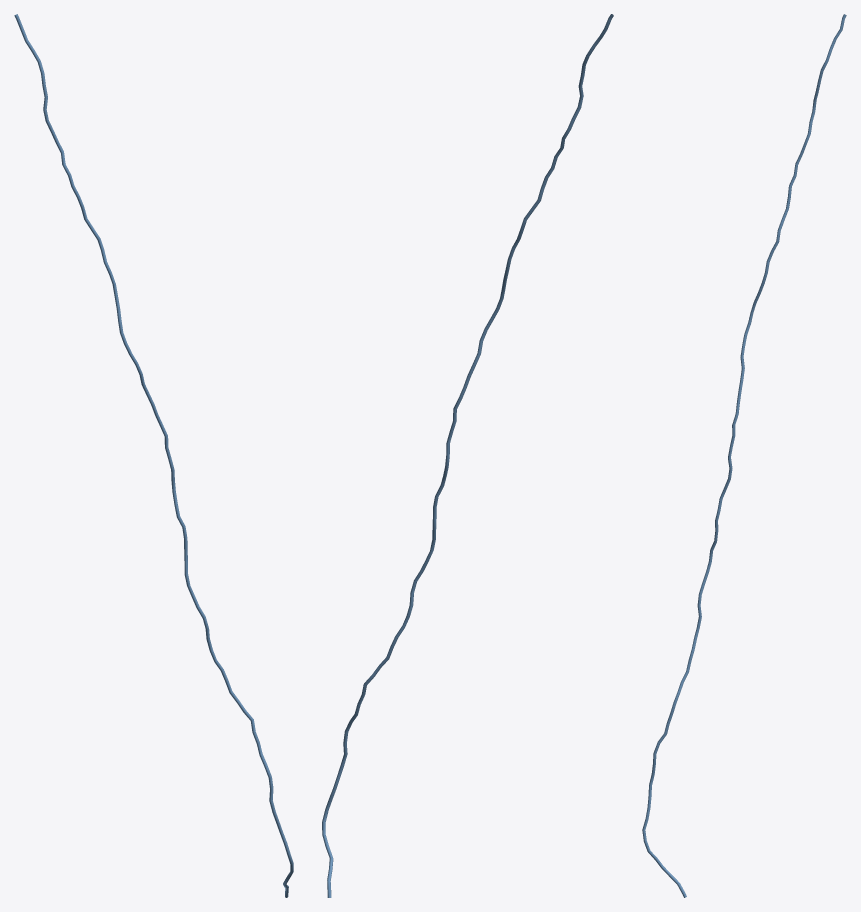
Rendered from sweep283.fbx.
3 renders of one model, left to right at view 1: azimuth 30°, elevation 25°; view 2: azimuth 210°, elevation 25°; view 3: azimuth 270°, elevation 25°, orthographic. The views are drawn at different scales.
Parts seen in each view (by area): view 1: sweep283; view 2: sweep283; view 3: sweep283.
Boxes of the visible parts, box(x1,y1,x2,y2) form: sweep283: box(14, 14, 293, 897); sweep283: box(322, 14, 613, 897); sweep283: box(642, 14, 846, 897).
Size of the model in its own units: 1.23 by 5.42 by 1.25.
